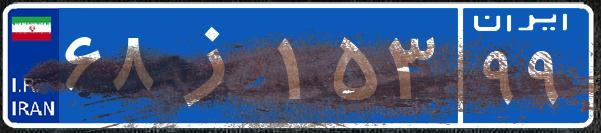1: (273, 28, 330, 110)
3: (385, 28, 445, 110)
5: (330, 28, 385, 110)
6: (57, 26, 110, 107)
8: (110, 28, 158, 105)
9: (475, 38, 525, 113), (525, 38, 570, 115)
ز: (158, 15, 273, 115)
